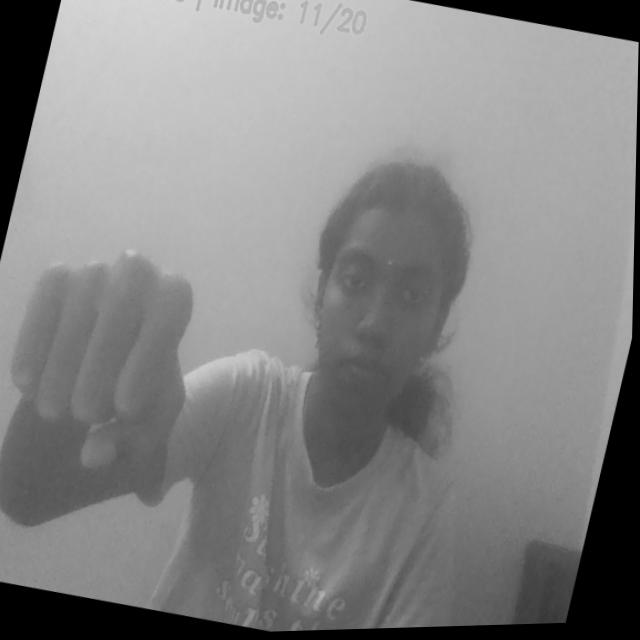Yes: (0, 229, 218, 488)
